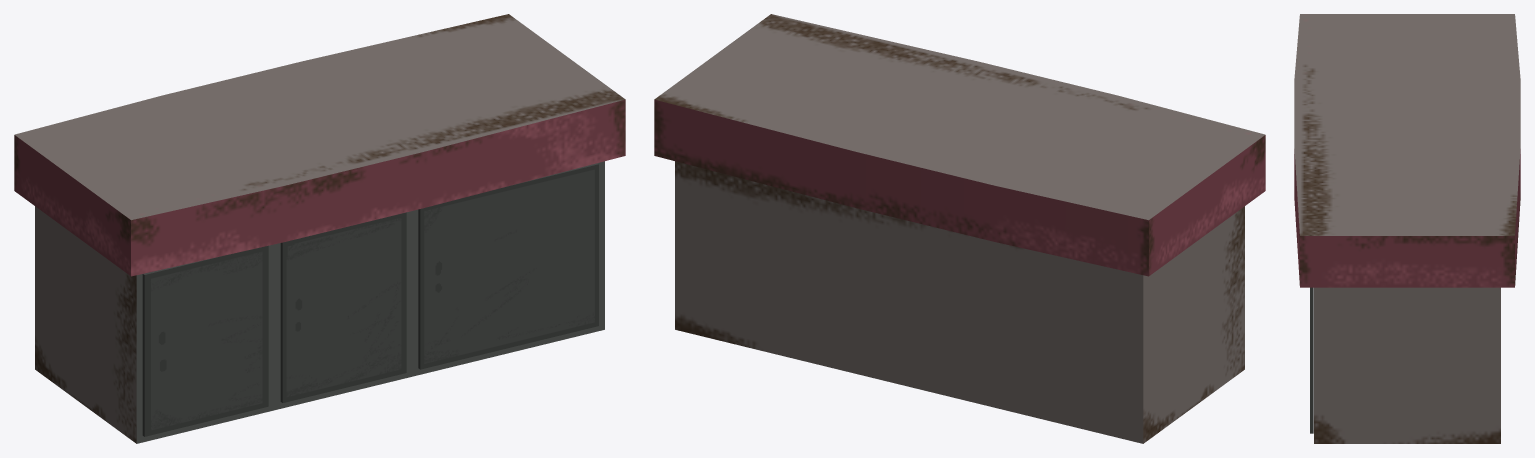
The model's file is Env_Table_NoSink.fbx.
3 views of the same model, side by side, from view 1: azimuth 30°, elevation 25°; view 2: azimuth 150°, elevation 25°; view 3: azimuth 270°, elevation 25° (orthographic). The views are drawn at different scales.
Visible parts, largest first — view 1: Table_Shelves, Cabinet_Door.004, Cabinet_Door.006, Cabinet_Door.005; view 2: Table_Shelves; view 3: Table_Shelves, Cabinet_Door.004.
Part boxes in pixels (box(x1,y1,x2,y2)): Table_Shelves: box(14, 14, 625, 443); Cabinet_Door.004: box(418, 163, 598, 369); Cabinet_Door.006: box(142, 245, 268, 436); Cabinet_Door.005: box(280, 212, 406, 402); Table_Shelves: box(654, 14, 1265, 443); Table_Shelves: box(1294, 14, 1520, 443); Cabinet_Door.004: box(1310, 287, 1313, 433).
Bounding box in the file's own units: 208 × 93.65 × 89.93.
